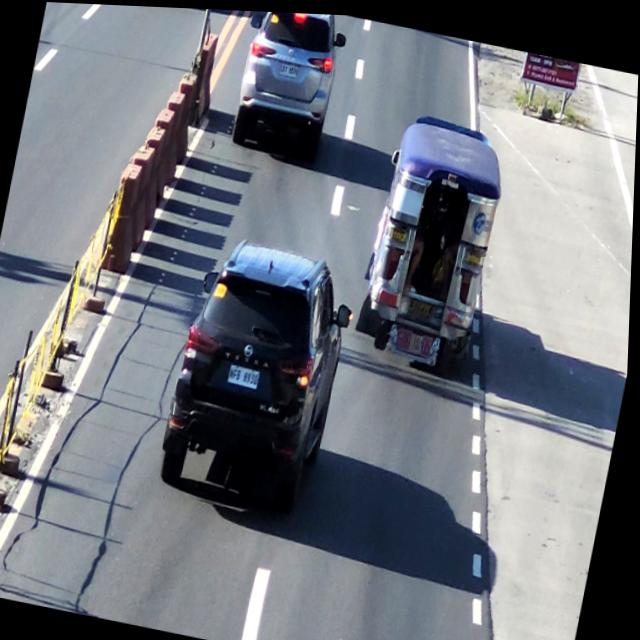Car: (161, 228, 360, 511), (230, 8, 343, 154)
Jeep: (358, 109, 510, 375)
License-Plate: (228, 357, 265, 392), (410, 293, 438, 316), (277, 57, 302, 79)
